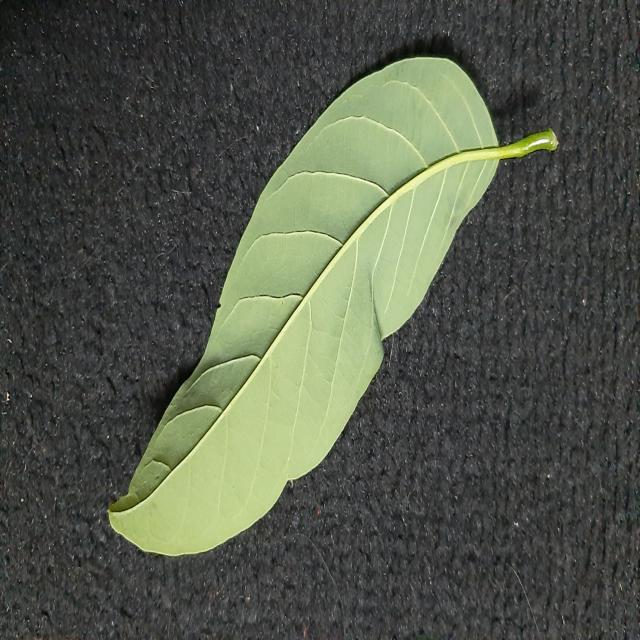seethaphala: (109, 57, 558, 555)
